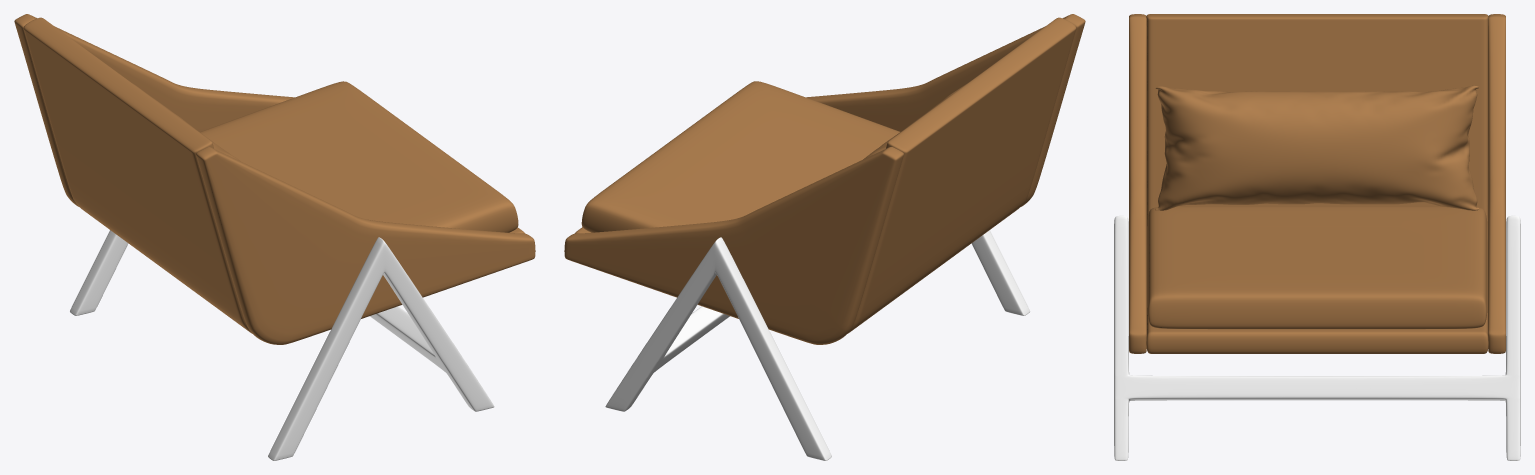
The model's file is LoungeChair.glb.
3 renders of one model, left to right at view 1: azimuth 30°, elevation 25°; view 2: azimuth 150°, elevation 25°; view 3: azimuth 270°, elevation 25°, orthographic.
Parts seen in each view (by area): view 1: Chair; view 2: Chair; view 3: Chair.
Part boxes in pixels (x1,y1,x2,y2): Chair: (14, 14, 535, 460); Chair: (564, 14, 1085, 460); Chair: (1114, 14, 1520, 460).
Bounding box in the file's own units: 1.09 × 0.9891 × 1.16.
